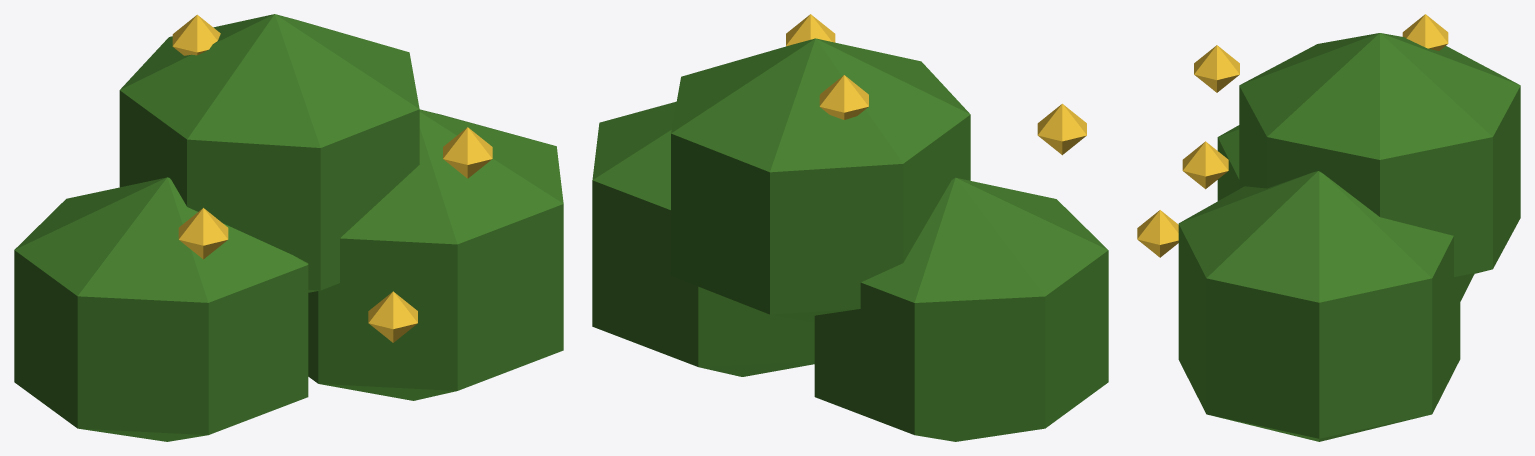
File: bush_yellow_flowers.obj
The picture shows the model from 3 angles, left to right: view 1: azimuth 30°, elevation 25°; view 2: azimuth 150°, elevation 25°; view 3: azimuth 270°, elevation 25°; orthographic projection. The views are drawn at different scales.
Bounding box in the file's own units: 1.4 × 1.05 × 1.01.
Materials: 2 (2 with a texture image).
